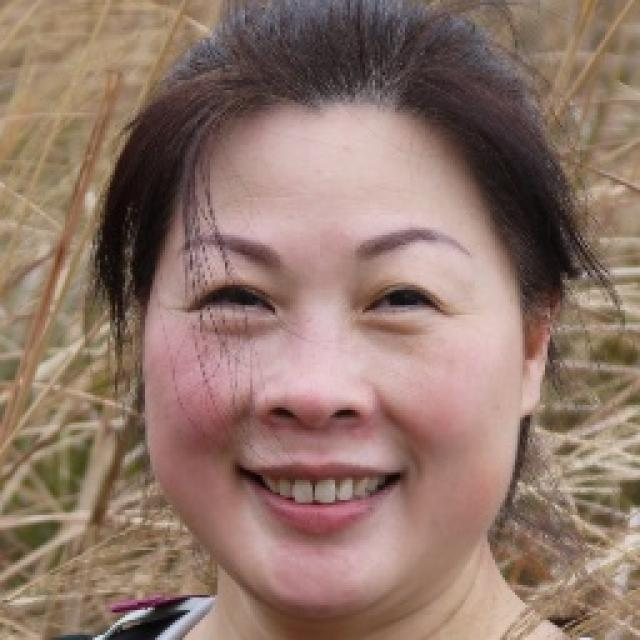earlobe: (518, 273, 560, 421)
